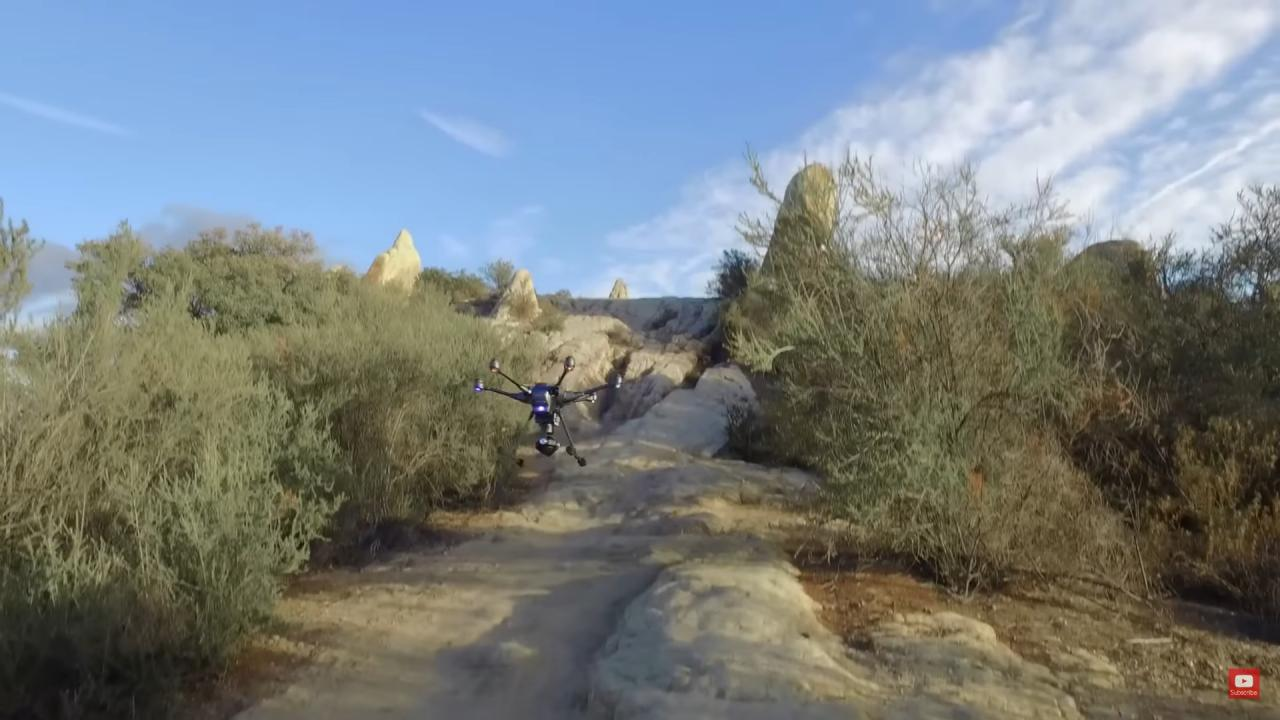Drone: (458, 344, 640, 479)
